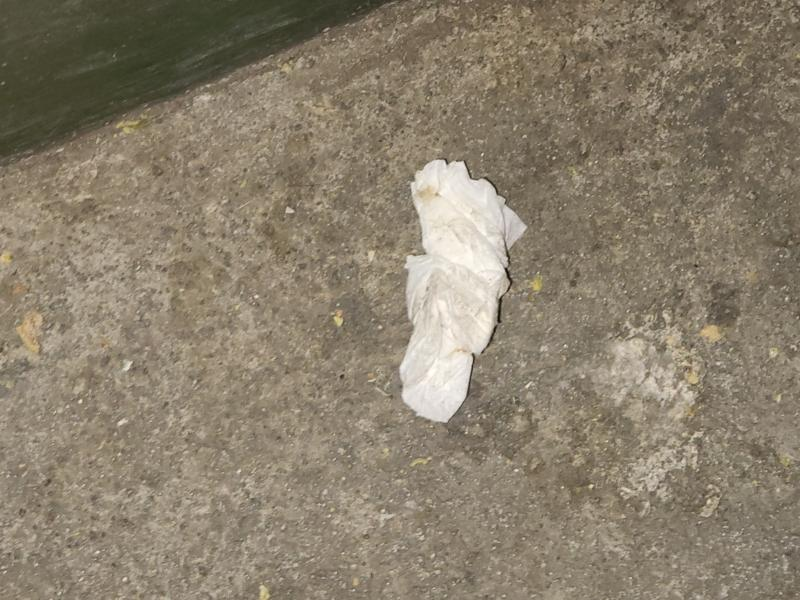papel: (398, 161, 528, 425)
